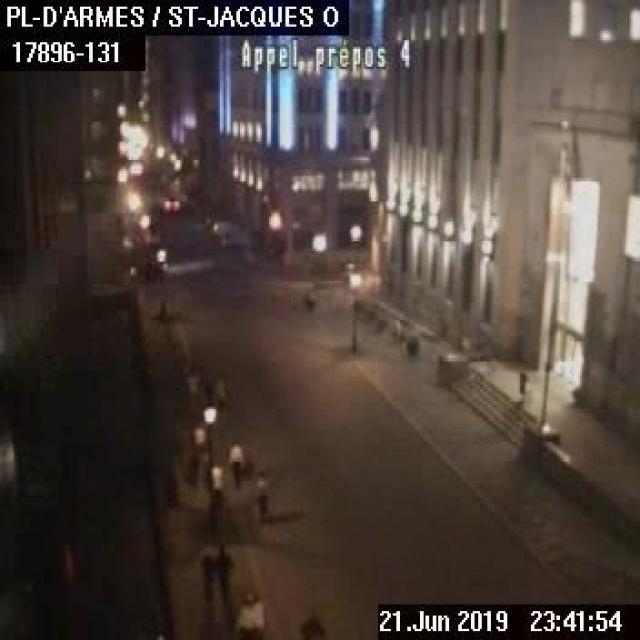pedestrian: (233, 590, 264, 638), (213, 542, 233, 604), (228, 436, 245, 494), (251, 467, 267, 518), (200, 551, 213, 602), (210, 461, 221, 506)
vehicle: (158, 194, 179, 213)
